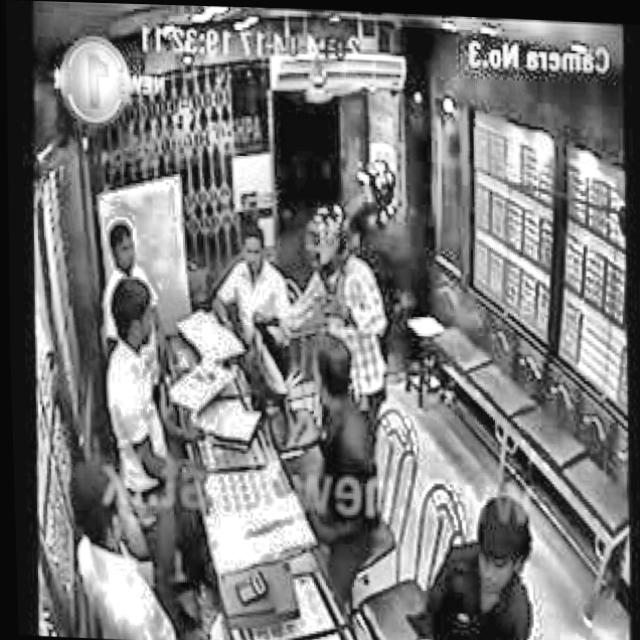robbery: (241, 195, 397, 408)
